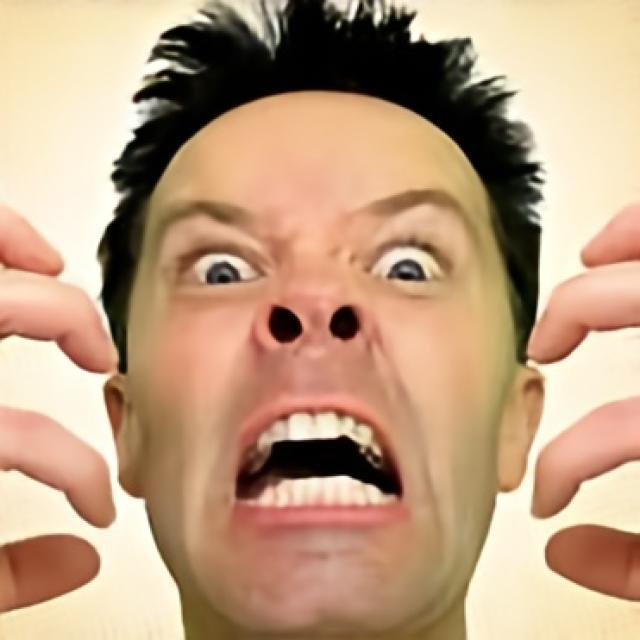anger: (131, 86, 509, 638)
